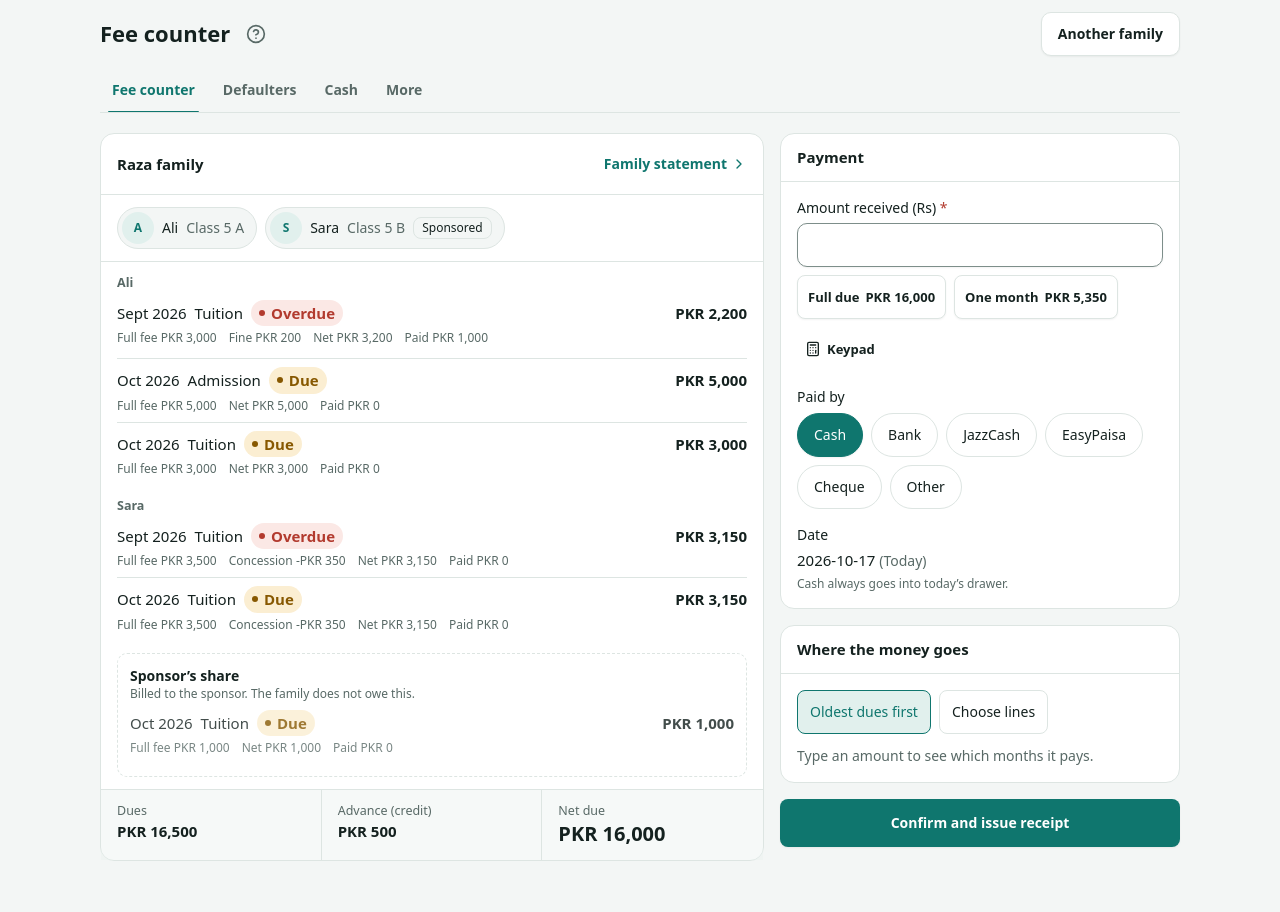
Test: counter: role-aware hints and refusals › no bank account: an accountant is told to ask an admin; an owner where to add one
Click the button with id "method-bank".
click(905, 435)  # box x1=871 y1=413 x2=938 y2=457
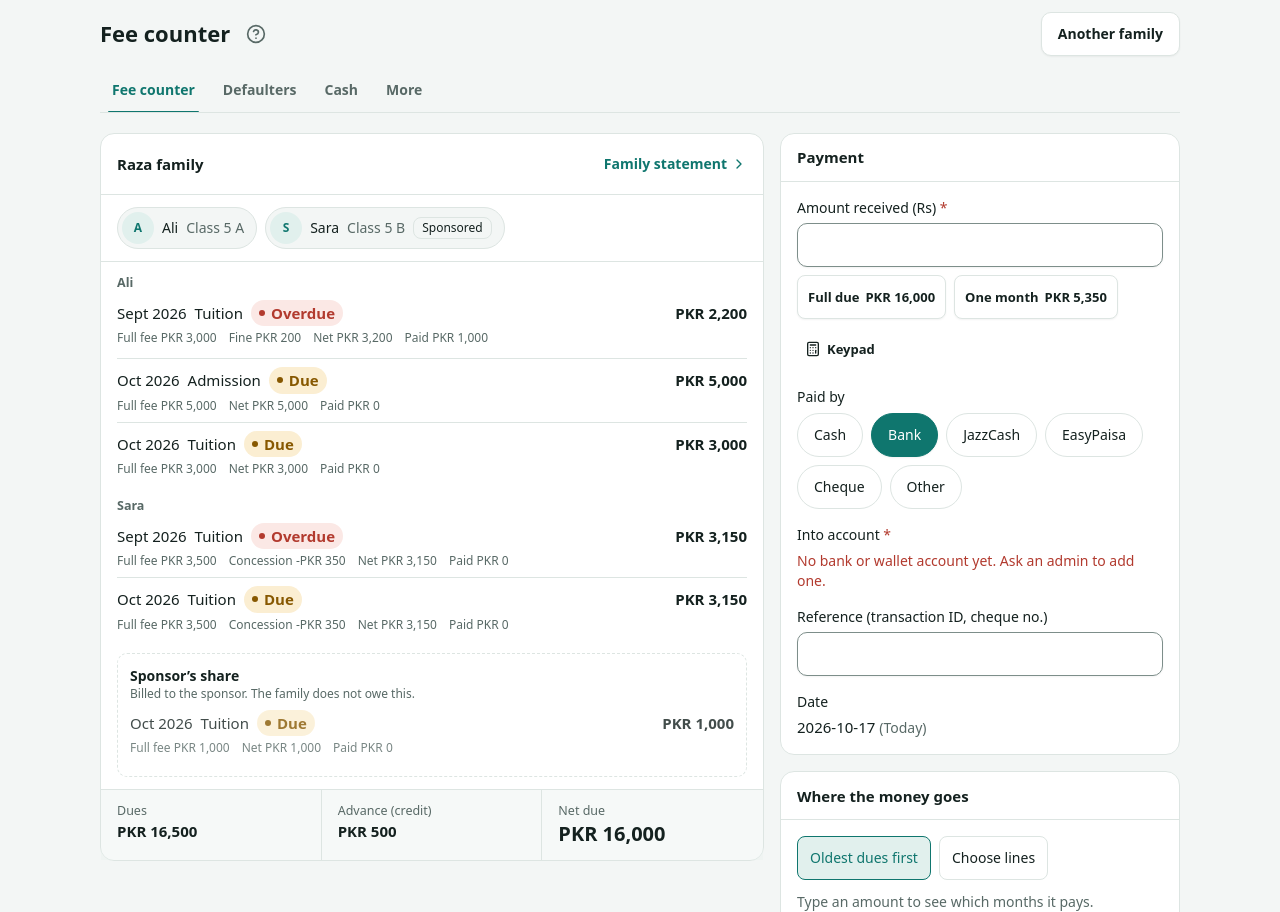
Expected: the text with id "counter-no-accounts" reads "No bank or wallet account yet. Ask an admin to add one.", x1=797 y1=550 x2=1134 y2=590
